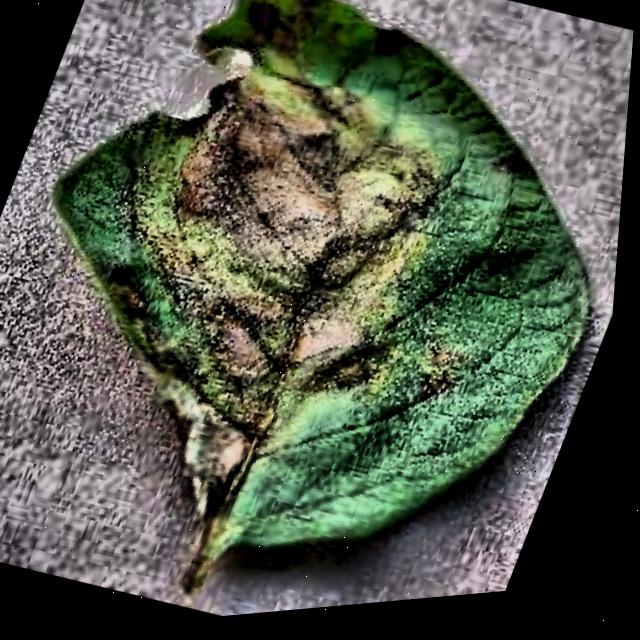Potato_leaf_late_blight: (38, 0, 596, 562)
